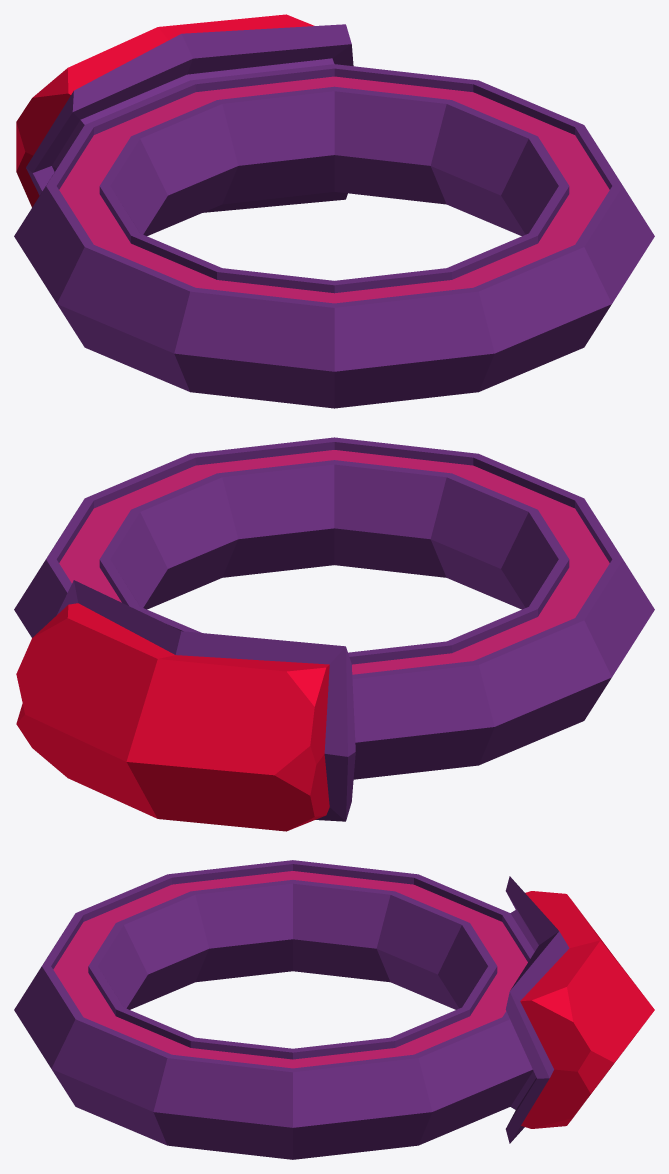
File: c_ring.glb
The picture shows the model from 3 angles, top to bottom: view 1: azimuth 30°, elevation 25°; view 2: azimuth 150°, elevation 25°; view 3: azimuth 270°, elevation 25°; orthographic projection. The views are drawn at different scales.
Visible parts, largest first — view 1: C_Ring; view 2: C_Ring; view 3: C_Ring.
Part boxes in pixels (x1=…): C_Ring: x1=14, y1=14, x2=654, y2=408; C_Ring: x1=14, y1=437, x2=654, y2=831; C_Ring: x1=14, y1=860, x2=654, y2=1159.
Bounding box in the file's own units: 0.0478 × 0.0149 × 0.0549.
1 material, 1 textured.
